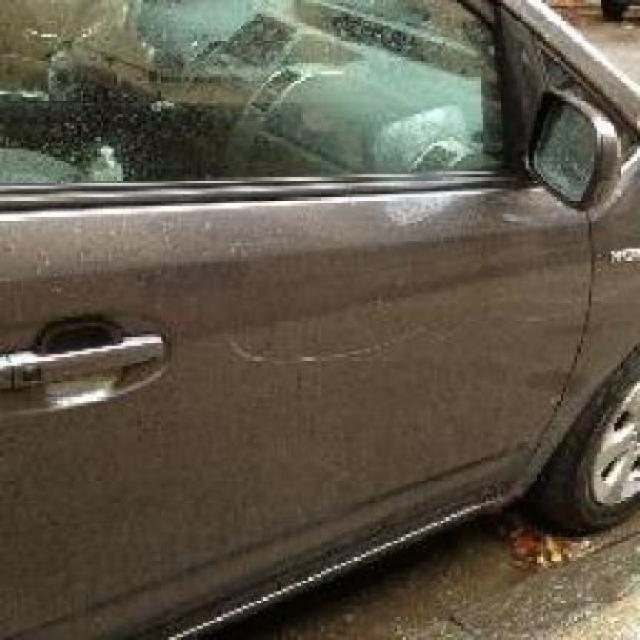dent-or-scratch: (238, 321, 460, 374)
